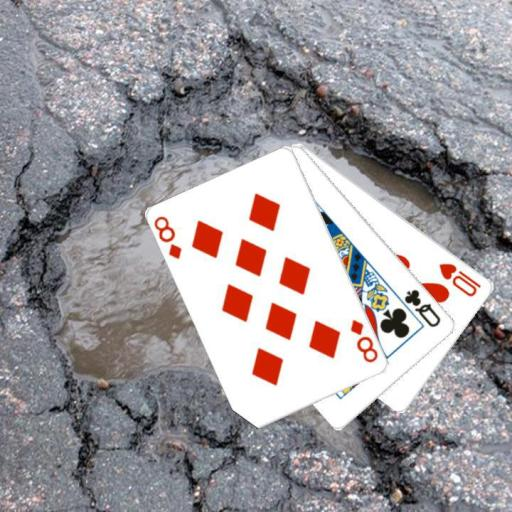10H: (436, 260, 483, 299)
8D: (347, 316, 380, 365), (151, 213, 184, 261)
QC: (401, 286, 443, 329)
